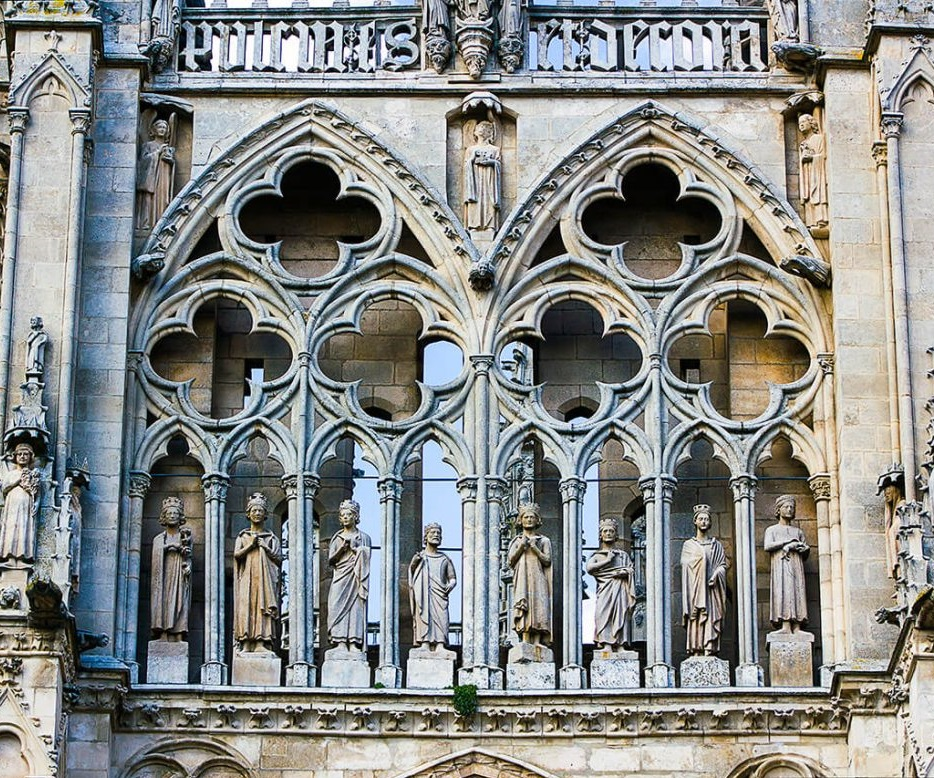arco-apuntado: (128, 94, 481, 326), (482, 94, 828, 328)
